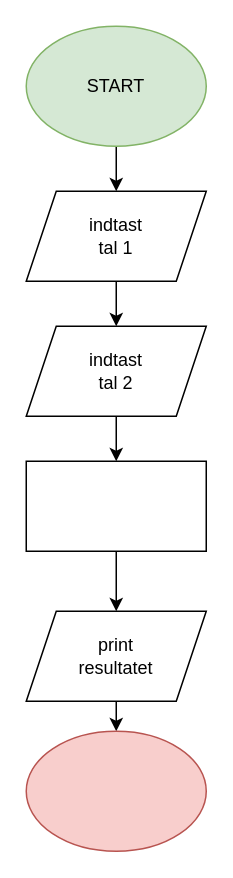
Some shapes in this 233 by 878 pixel diagram are drawn without their labels. Each missing label, with the centre of its shape:
Beregn resultatet af tal 1 + tal 2: (115,505)
STOP: (115,790)
